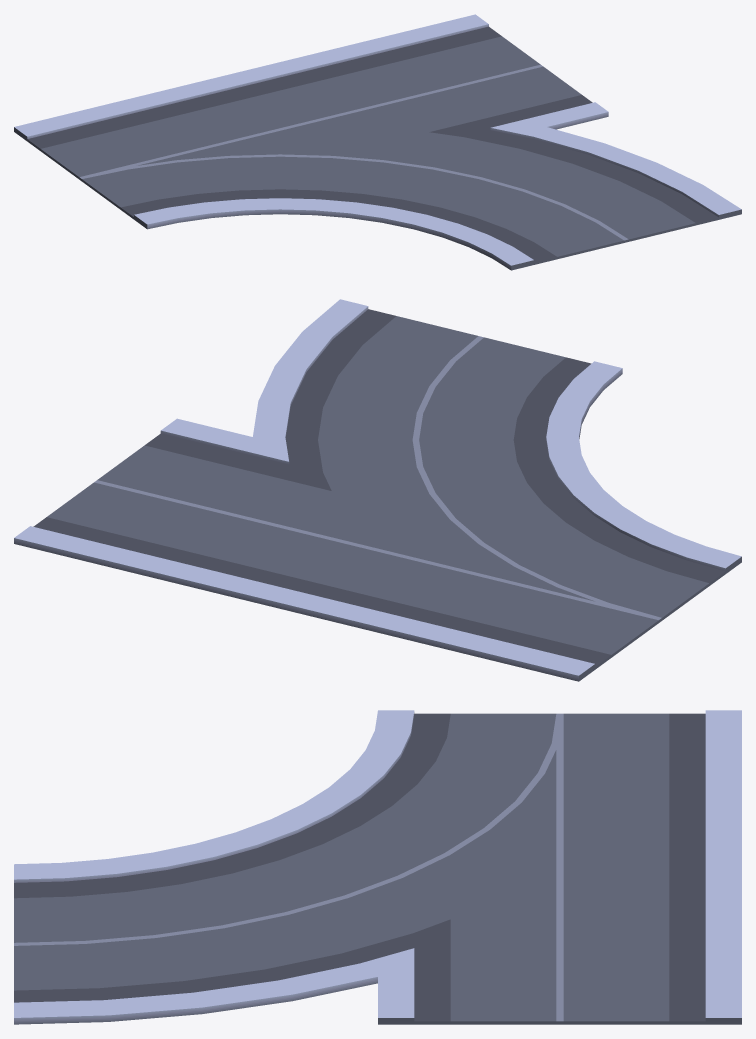
The model's file is road-curve-intersection.glb.
The picture shows the model from 3 angles, top to bottom: view 1: azimuth 30°, elevation 25°; view 2: azimuth 150°, elevation 25°; view 3: azimuth 270°, elevation 25°; orthographic projection. The views are drawn at different scales.
Visible parts, largest first — view 1: road-curve-intersection; view 2: road-curve-intersection; view 3: road-curve-intersection.
Part boxes in pixels (x1,y1,x2,y2): road-curve-intersection: (14,14,741,270); road-curve-intersection: (14,299,741,681); road-curve-intersection: (14,710,741,1024).
Size of the model in its own units: 2 by 0.02 by 2.
Materials: 1 (1 with a texture image).
